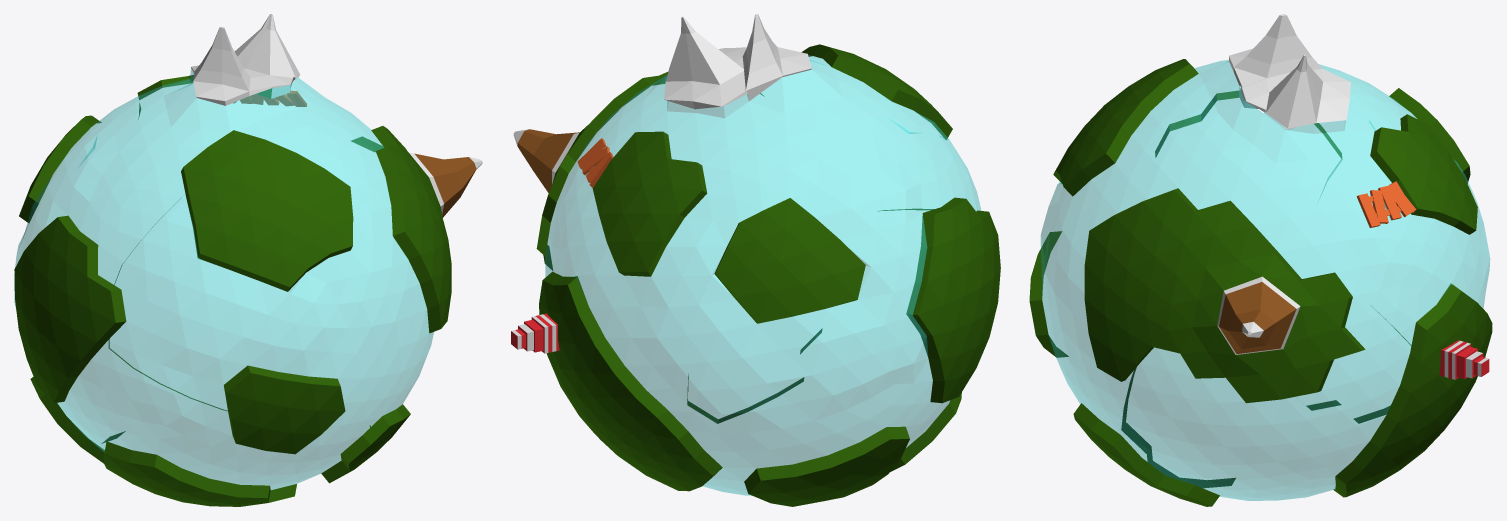
The model's file is world3.glb.
3 views of the same model, side by side, from view 1: azimuth 30°, elevation 25°; view 2: azimuth 150°, elevation 25°; view 3: azimuth 270°, elevation 25° (orthographic). The views are drawn at different scales.
Parts seen in each view (by area): view 1: Icosphere, Cube.002; view 2: Icosphere, Cube.001, Cube.002; view 3: Icosphere, Cube.002, Cube.001.
Boxes of the visible parts, x1,y1,x2,y2 form: Icosphere: [14, 14, 482, 506]; Cube.002: [233, 90, 306, 106]; Icosphere: [513, 14, 1000, 506]; Cube.001: [511, 313, 559, 353]; Cube.002: [577, 138, 613, 187]; Icosphere: [1029, 14, 1492, 506]; Cube.002: [1356, 181, 1416, 227]; Cube.001: [1439, 340, 1489, 379].
Size of the model in its own units: 2.41 by 2.36 by 2.08.
